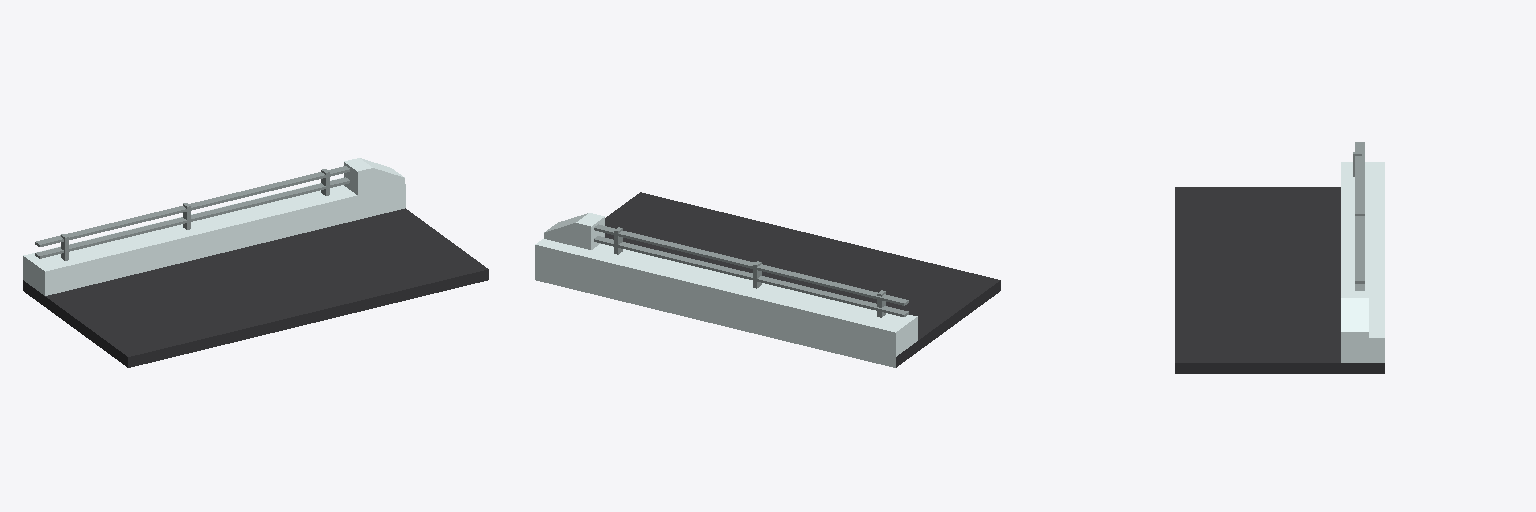
The picture shows the model from 3 angles: view 1: azimuth 30°, elevation 25°; view 2: azimuth 150°, elevation 25°; view 3: azimuth 270°, elevation 25°; orthographic projection.
Visible parts, largest first — view 1: Mesh1 Group2 Group1 Model, Mesh3 Group3 Group1 Model, Mesh5 Group5 Group4 Group1 Model, Mesh11 Group8 Group4 Group1 Model, Mesh15 Group10 Model; view 2: Mesh1 Group2 Group1 Model, Mesh3 Group3 Group1 Model, Mesh5 Group5 Group4 Group1 Model, Mesh11 Group8 Group4 Group1 Model, Mesh15 Group10 Model; view 3: Mesh1 Group2 Group1 Model, Mesh3 Group3 Group1 Model, Mesh5 Group5 Group4 Group1 Model, Mesh15 Group10 Model.
Boxes of the visible parts, box(x1,y1,x2,y2) form: Mesh1 Group2 Group1 Model: box(23, 208, 488, 367); Mesh3 Group3 Group1 Model: box(23, 177, 405, 295); Mesh5 Group5 Group4 Group1 Model: box(35, 166, 349, 246); Mesh11 Group8 Group4 Group1 Model: box(35, 177, 349, 258); Mesh15 Group10 Model: box(344, 158, 404, 194); Mesh1 Group2 Group1 Model: box(535, 192, 1000, 367); Mesh3 Group3 Group1 Model: box(535, 239, 917, 356); Mesh5 Group5 Group4 Group1 Model: box(594, 224, 908, 305); Mesh11 Group8 Group4 Group1 Model: box(594, 236, 908, 316); Mesh15 Group10 Model: box(544, 213, 604, 249); Mesh1 Group2 Group1 Model: box(1175, 187, 1384, 373); Mesh3 Group3 Group1 Model: box(1341, 162, 1384, 362); Mesh5 Group5 Group4 Group1 Model: box(1355, 142, 1364, 290); Mesh15 Group10 Model: box(1341, 291, 1368, 337).
Bounding box in the file's own units: 18.15 × 2.85 × 9.18.
Materials: 3 (3 with a texture image).